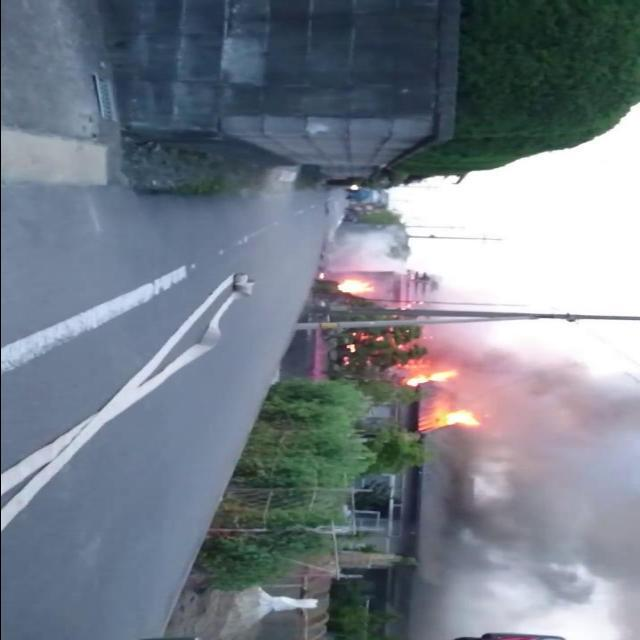Fire: (406, 369, 456, 389), (444, 410, 486, 430), (336, 279, 374, 294)
